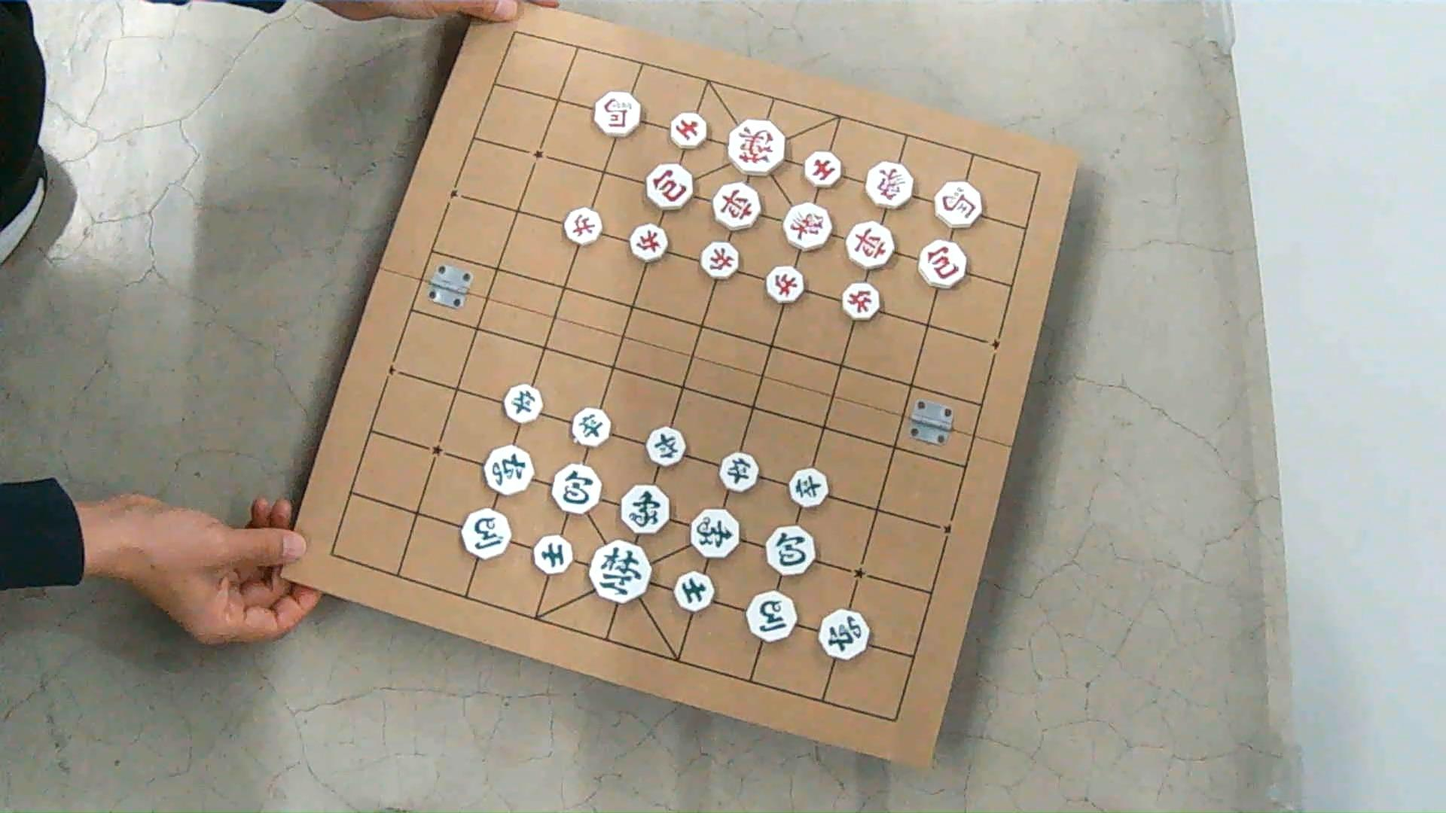cha_green: (819, 609, 869, 659), (483, 446, 532, 495)
cha_red: (846, 221, 894, 269), (712, 183, 760, 230)
jol_green: (719, 452, 758, 492), (645, 427, 685, 466), (789, 468, 828, 507), (503, 384, 542, 423), (572, 408, 610, 446)
jol_red: (700, 241, 740, 279), (629, 224, 668, 262), (563, 208, 602, 245), (767, 266, 804, 303), (843, 283, 880, 320)
ma_green: (462, 509, 511, 559), (747, 592, 795, 641)
ma_red: (935, 181, 983, 228), (593, 92, 640, 137)
po_green: (766, 526, 816, 575), (552, 464, 600, 514)
po_red: (918, 240, 966, 288), (645, 164, 692, 210)
sa_green: (675, 571, 713, 611), (534, 535, 572, 574)
sa_red: (804, 151, 841, 187), (670, 112, 707, 148)
sang_green: (621, 485, 669, 534), (691, 509, 738, 558)
sang_red: (784, 202, 831, 251), (865, 162, 913, 209)
wang_green: (590, 540, 650, 603)
wang_red: (728, 120, 784, 175)
